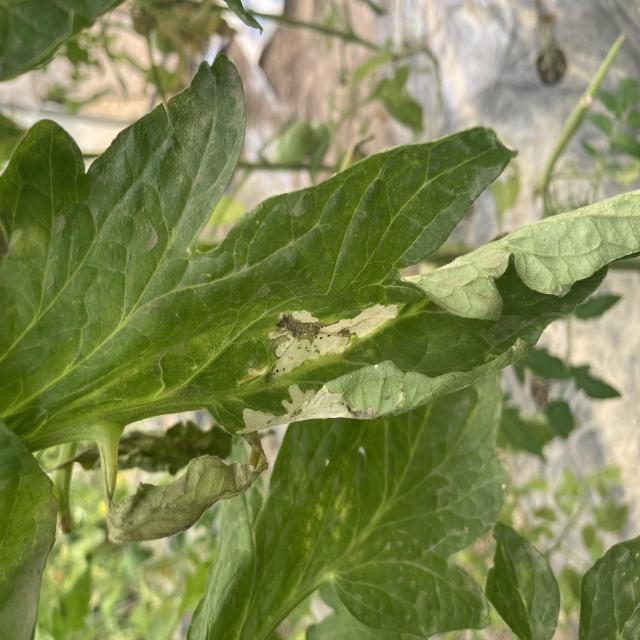Tuta absoluta: (255, 278, 406, 379), (238, 375, 320, 442)
